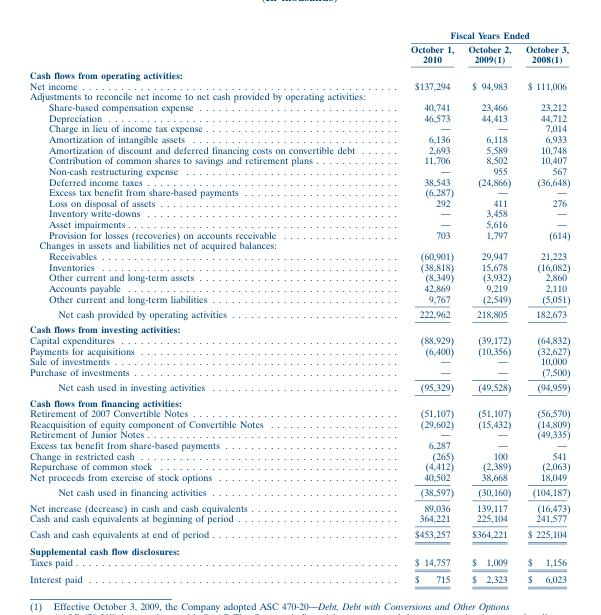table: (29, 28, 569, 584)
table column: (29, 28, 382, 584), (382, 28, 460, 584), (460, 28, 517, 584), (517, 28, 569, 584)
table column header: (29, 28, 569, 66)
table projected row header: (29, 66, 569, 79), (29, 321, 569, 334), (29, 394, 569, 407), (29, 542, 569, 555), (29, 90, 569, 101), (29, 239, 569, 250)
table row: (29, 41, 569, 66), (29, 525, 569, 542), (29, 305, 569, 321), (29, 379, 569, 394), (29, 484, 569, 499), (29, 569, 569, 584), (29, 555, 569, 569), (29, 28, 569, 41), (29, 66, 569, 79), (29, 292, 569, 305), (29, 321, 569, 334), (29, 366, 569, 379), (29, 394, 569, 407), (29, 471, 569, 484), (29, 499, 569, 512), (29, 512, 569, 525), (29, 542, 569, 555), (29, 79, 569, 90), (29, 90, 569, 101), (29, 101, 569, 112), (29, 122, 569, 133), (29, 143, 569, 154), (29, 154, 569, 165), (29, 175, 569, 186), (29, 186, 569, 197), (29, 207, 569, 218), (29, 218, 569, 229), (29, 239, 569, 250), (29, 260, 569, 271), (29, 271, 569, 282), (29, 344, 569, 355), (29, 355, 569, 366), (29, 407, 569, 418), (29, 428, 569, 439), (29, 439, 569, 450), (29, 460, 569, 471), (29, 112, 569, 122), (29, 133, 569, 143), (29, 165, 569, 175), (29, 197, 569, 207), (29, 229, 569, 239), (29, 250, 569, 260), (29, 282, 569, 292), (29, 334, 569, 344), (29, 418, 569, 428), (29, 450, 569, 460)
table spanning cell: (382, 28, 569, 41)
